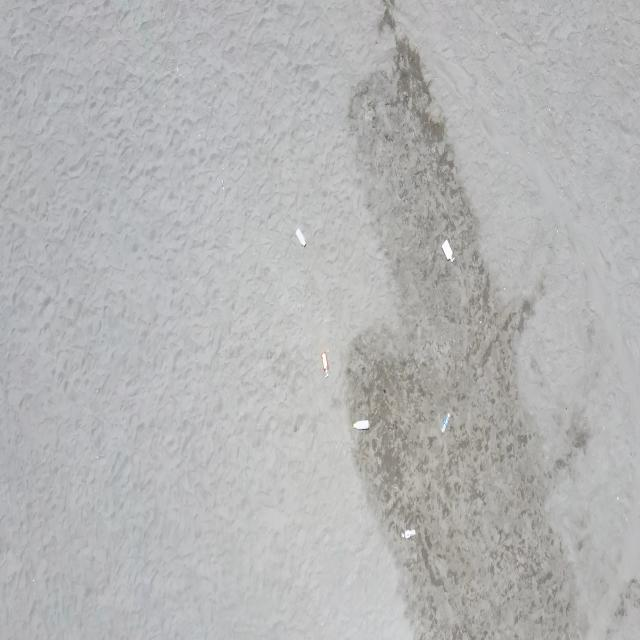plastic-bottle: (440, 238, 456, 264), (352, 417, 371, 432), (295, 226, 306, 249), (321, 351, 330, 379), (440, 412, 450, 435), (401, 527, 417, 541)
